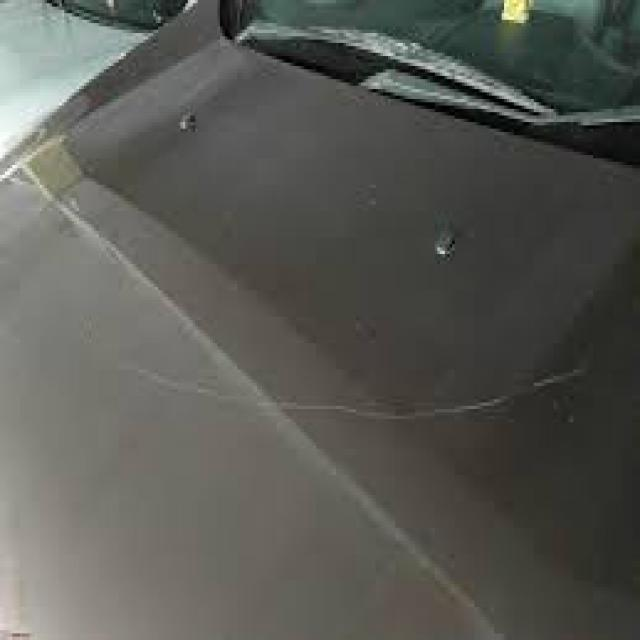bonnet-dent: (3, 69, 638, 640)
